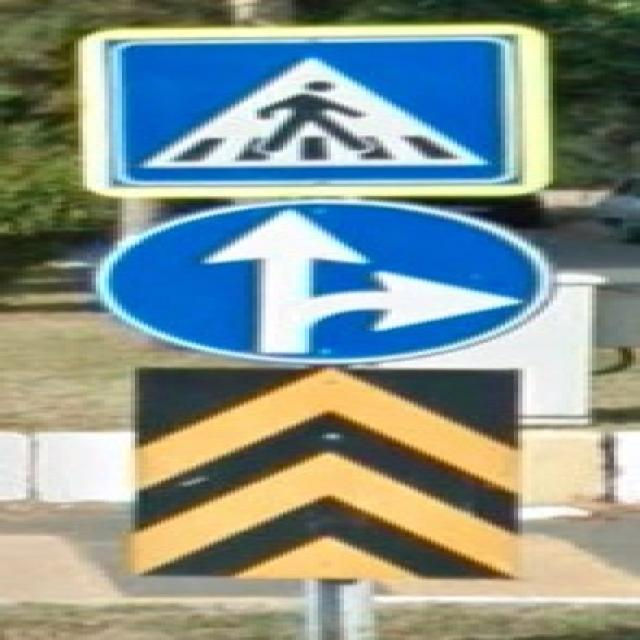Straight or Right: (99, 200, 552, 363)
